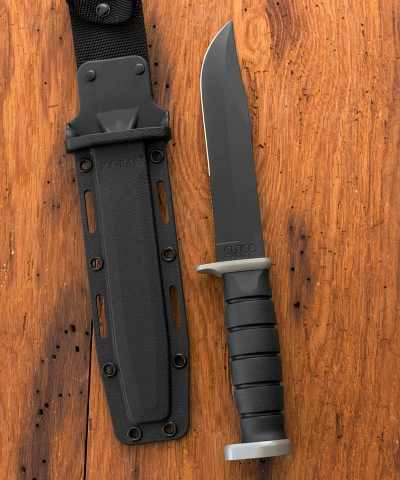knife: (189, 15, 318, 466)
